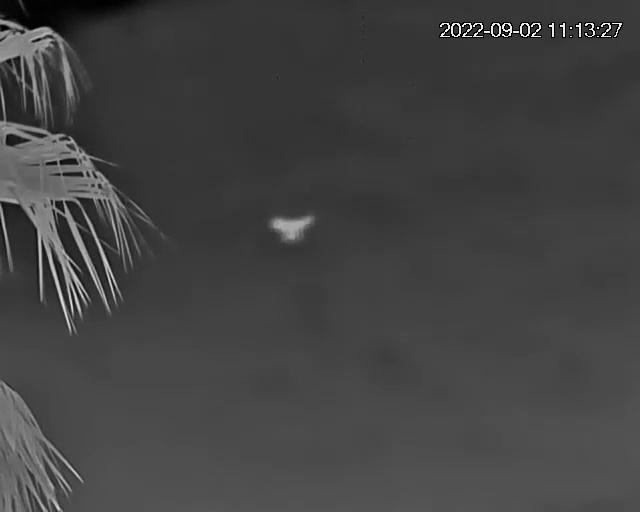DJI-Phantom: (269, 214, 319, 246)
